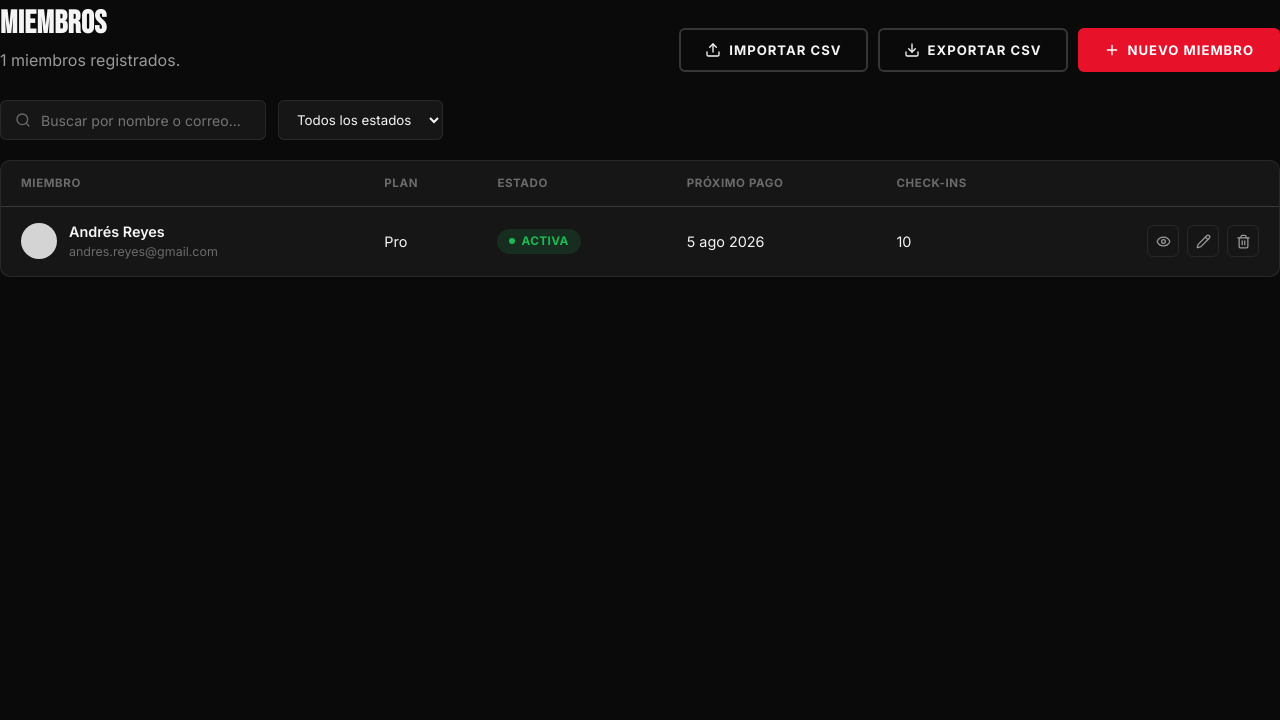
AdminMembers › asks for confirmation before deleting a member
Click the button named "Eliminar": (1243, 241) x1=1227 y1=225 x2=1259 y2=257
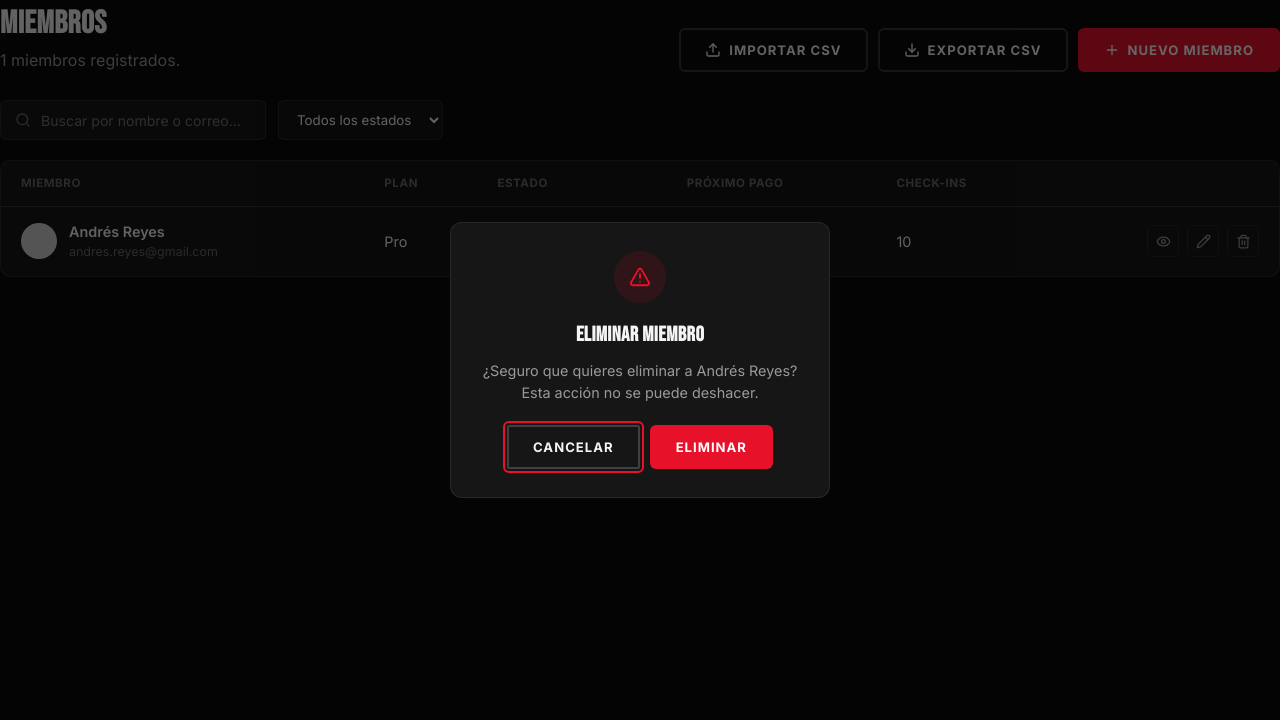
Check: the text "Esta acción no se puede deshacer" is shown, box x1=483 y1=362 x2=797 y2=401
Click the button "Cancelar": (573, 447) x1=507 y1=425 x2=640 y2=469
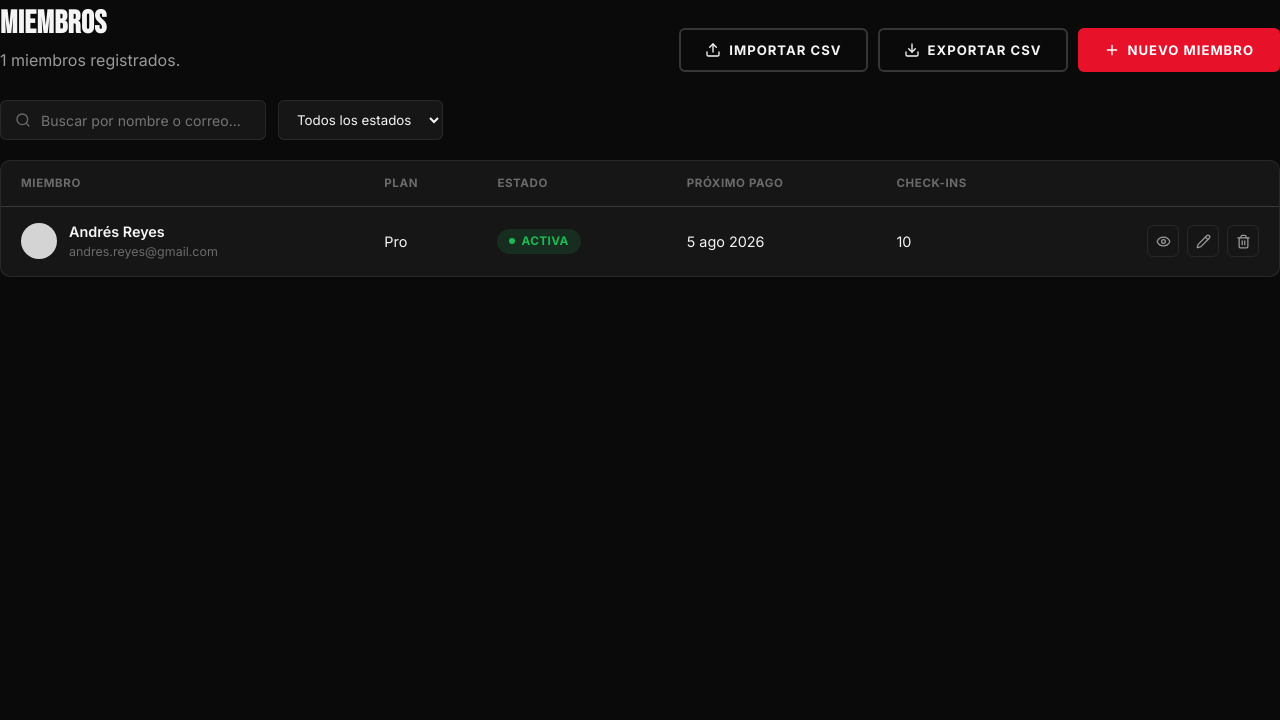
Check: the text "Esta acción no se puede deshacer" is gone
